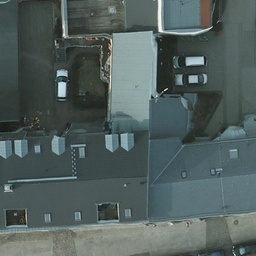car: (171, 53, 206, 69), (54, 68, 70, 102), (175, 72, 208, 85)
